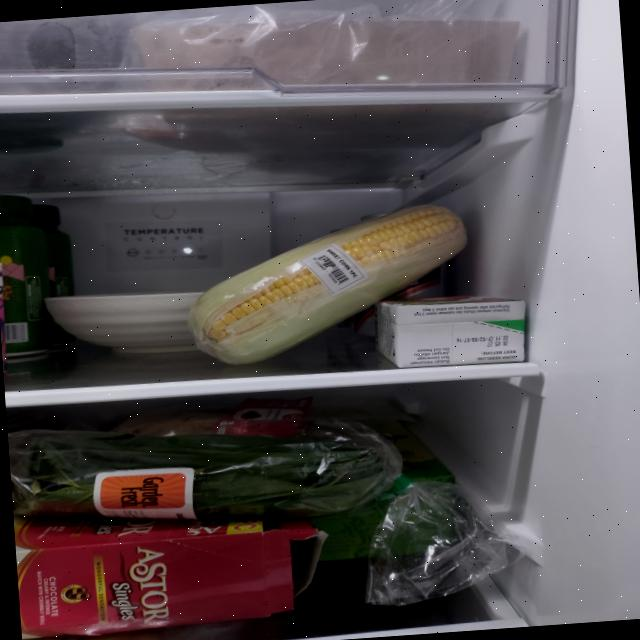corn: (179, 200, 478, 370)
leafy_greens: (7, 405, 389, 538)
